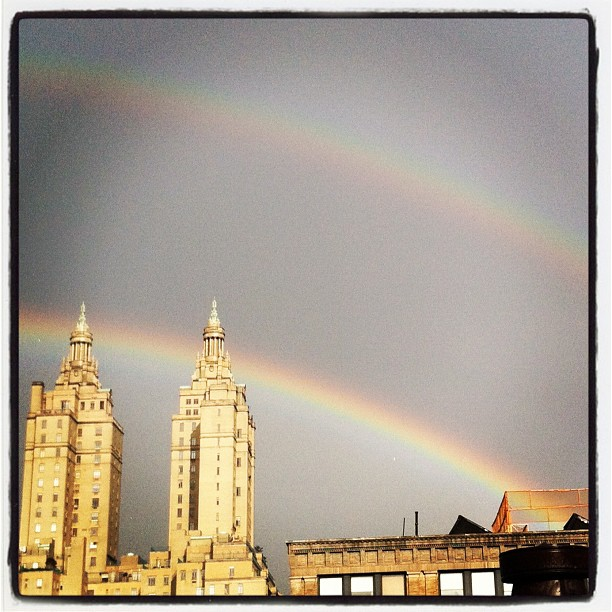building: (289, 490, 591, 603), (15, 305, 128, 602), (163, 305, 266, 612)
rainbow: (14, 31, 587, 293), (25, 305, 551, 527)
